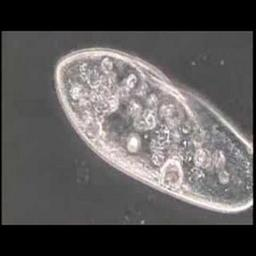Paramecium: (53, 48, 253, 215)
